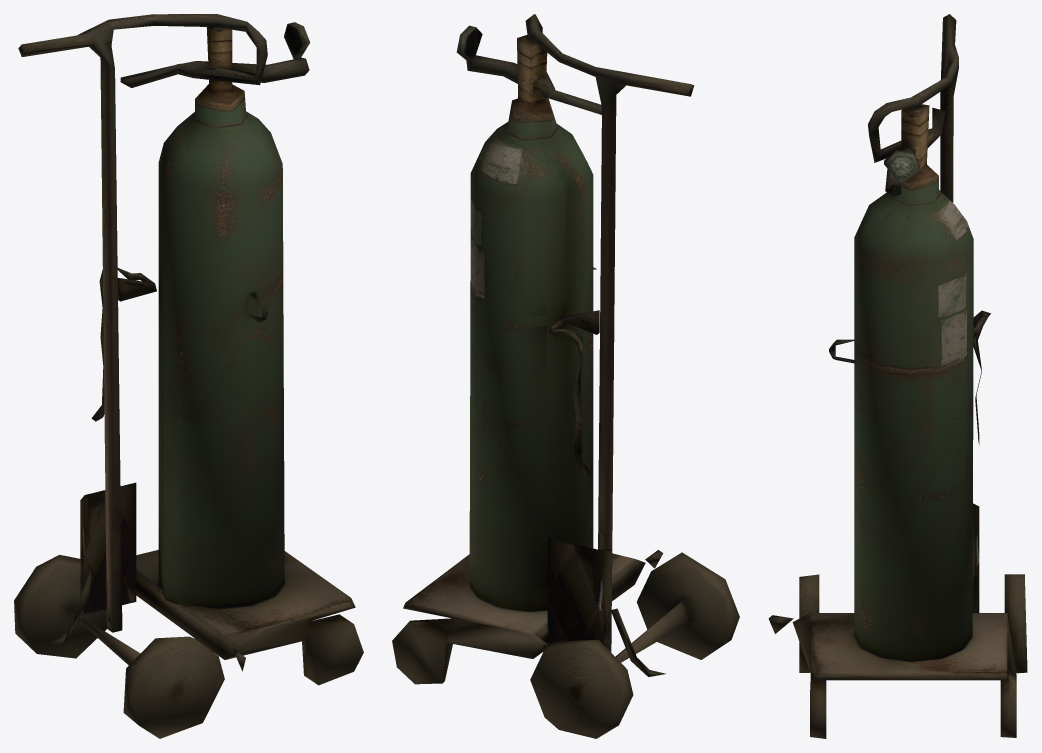
File: Oxygen tank.fbx
3 renders of one model, left to right at view 1: azimuth 30°, elevation 25°; view 2: azimuth 150°, elevation 25°; view 3: azimuth 270°, elevation 25°, orthographic. The views are drawn at different scales.
Visible parts, largest first — view 1: tripo_node_5fbb39c7-8910-4d83-b5c7-7a7198e7f4cf; view 2: tripo_node_5fbb39c7-8910-4d83-b5c7-7a7198e7f4cf; view 3: tripo_node_5fbb39c7-8910-4d83-b5c7-7a7198e7f4cf.
Part boxes in pixels (box(x1,y1,x2,y2)): tripo_node_5fbb39c7-8910-4d83-b5c7-7a7198e7f4cf: box(14, 14, 363, 738); tripo_node_5fbb39c7-8910-4d83-b5c7-7a7198e7f4cf: box(392, 14, 739, 738); tripo_node_5fbb39c7-8910-4d83-b5c7-7a7198e7f4cf: box(768, 14, 1027, 738).
Bounding box in the file's own units: 42.77 × 99.8 × 37.7.
1 material, 1 textured.
